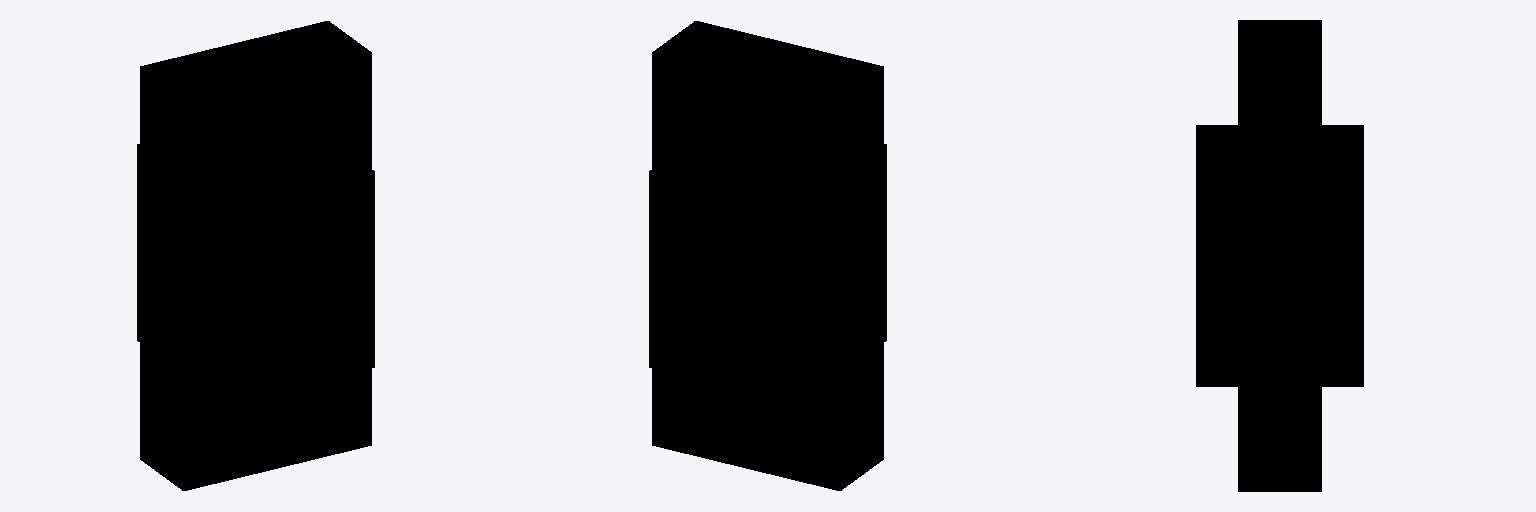
robot.urdf — robot_description:
<?xml version="1.0" encoding="utf-8"?>
<!-- This URDF was automatically created by SolidWorks to URDF Exporter! Originally created by Stephen Brawner ([email redacted]) 
     Commit Version: 1.5.1-0-g916b5db  Build Version: 1.5.7152.31018
     For more information, please see http://wiki.ros.org/sw_urdf_exporter -->
<robot
  name="robot_description">
  <link name="base_footprint"></link> 
  <link
    name="base_link">
    <inertial>
      <origin
        xyz="-0.166537387283527 -0.343295416941398 0.487663590094886"
        rpy="0 0 0" />
      <mass
        value="9.93476204559626" />
      <inertia
        ixx="0.329743643350845"
        ixy="0.000839316407568314"
        ixz="-0.0024568733164321"
        iyy="0.329832460799335"
        iyz="-0.000262107838308245"
        izz="0.0629069592496537" />
    </inertial>
    <visual>
      <origin
        xyz="0.2 0.15 0.09"
        rpy="1.5708 1.5708 3.14159" />
      <geometry>
        <mesh
          filename="package://robot_description/meshes/base_all.STL" />
      </geometry>
      <material
        name="">
        <color
          rgba="0.792156862745098 0.819607843137255 0.933333333333333 1" />
      </material>
    </visual>
    <collision>
      <origin
        xyz="0 0 0"
        rpy="0 0 0" />
      <geometry>
        <mesh
          filename="package://robot_description/meshes/base_link.STL" />
      </geometry>
    </collision>
  </link>
  <joint name="base_joint" type="fixed">
    <origin xyz="0 0 0" rpy="0 0 0"/>
    <parent link="base_footprint"/>
    <child link="base_link"/>
  </joint>
  <link name="laser_link">
    <visual>
      <origin xyz="0 0 0" rpy="0 0 0"/>
      <geometry> <box size="0.08 0.08 0.1"/></geometry>
      <material name="black"><color rgba="0 0 0 1"/></material>
    </visual>
  </link>
  <joint name="laser_joint" type="fixed">
    <origin xyz="0.19 0.01 0.20" rpy="0 0 0"/>
    <parent link="base_link"/>
    <child link="laser_link"/>
  </joint>
  <link name="laser">
    <visual>
      <origin xyz="0 0 0" rpy="0 0 0"/>
      <geometry> <box size="0.1 0.04 0.2"/></geometry>
      <material name="black"><color rgba="0 0 0 1"/></material>
    </visual>
  </link>
  <joint name="lidar_joint" type="fixed">
    <origin xyz="0 0 0" rpy="0 0 3.14159"/>
    <parent link="laser_link"/>
    <child link="laser"/>
  </joint>
</robot>

--- Render facts (derived) ---
3 views of the same robot in one strip: view 1: azimuth 30°, elevation 25°; view 2: azimuth 150°, elevation 25°; view 3: azimuth 270°, elevation 25° (orthographic).
Model robot_description with 4 links and 3 joints (3 fixed), rooted at base_footprint, posed all joints at 0.
Visible links, largest first — view 1: laser, laser_link; view 2: laser, laser_link; view 3: laser, laser_link.
Boxes of the visible links, x1=… form: laser: x1=140, y1=21, x2=371, y2=490; laser_link: x1=137, y1=144, x2=374, y2=403; laser: x1=652, y1=21, x2=883, y2=490; laser_link: x1=649, y1=144, x2=886, y2=403; laser: x1=1238, y1=20, x2=1321, y2=491; laser_link: x1=1196, y1=125, x2=1363, y2=386.
Size in the robot's own frame: 0.1 by 0.08 by 0.2 metres.
Meshes: 1 distinct files referenced, 0 mesh visuals loaded (none loaded); not drawn: 1 (reference not matched to a file when rendering).
